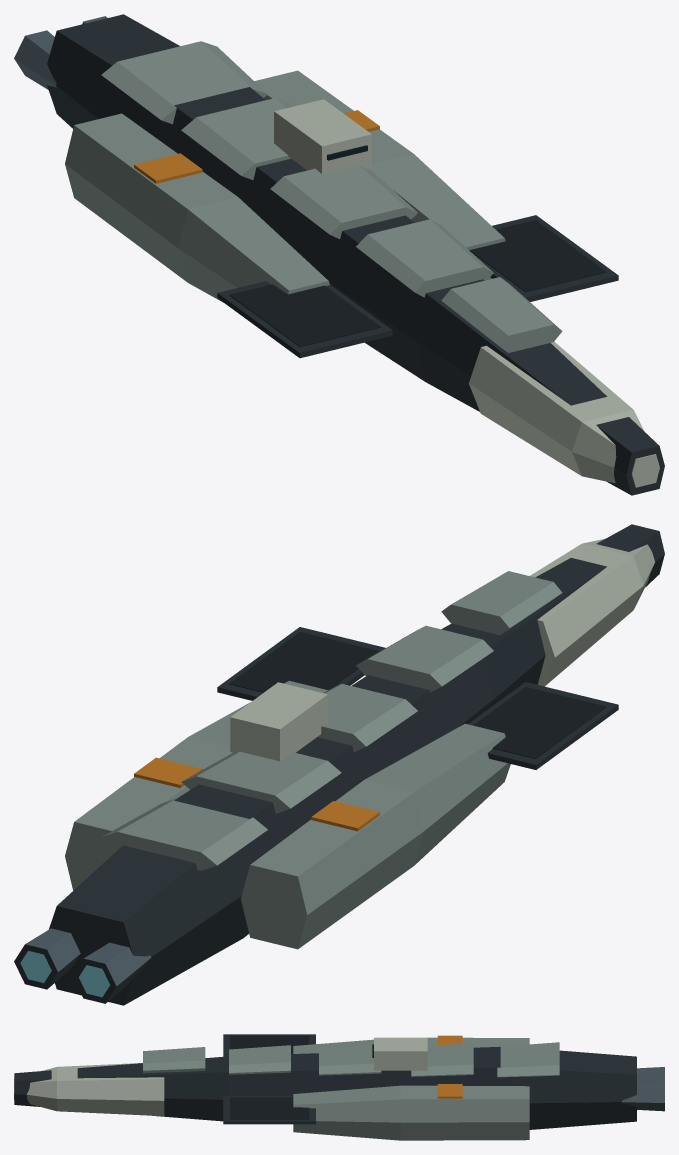
File: frigate-low.glb
The picture shows the model from 3 angles, top to bottom: view 1: azimuth 30°, elevation 25°; view 2: azimuth 150°, elevation 25°; view 3: azimuth 270°, elevation 25°; orthographic projection. The views are drawn at different scales.
Visible parts, largest first — view 1: AV_frigate-low; view 2: AV_frigate-low; view 3: AV_frigate-low.
Part boxes in pixels (x1,y1,x2,y2): AV_frigate-low: (14,14,664,495); AV_frigate-low: (14,524,664,1005); AV_frigate-low: (14,1034,664,1140).
Size of the model in its own units: 0.6243 by 0.2764 by 1.97.
1 material, 1 textured.
